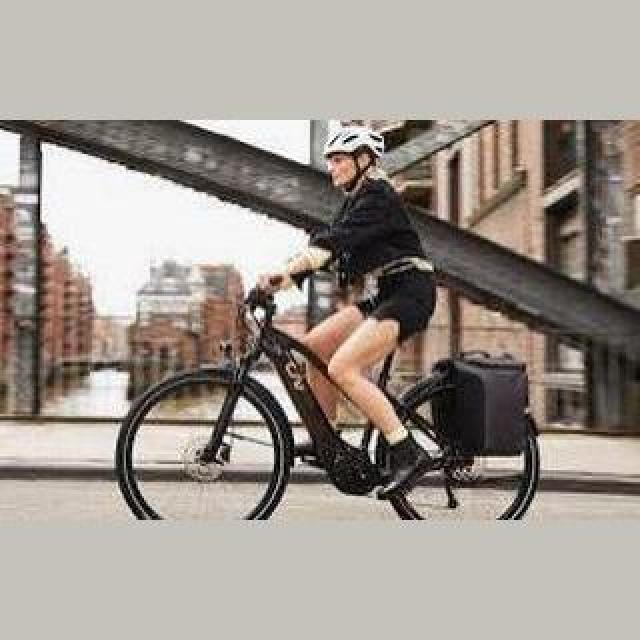MC-Bike: (250, 124, 438, 504)
Person: (117, 264, 543, 520)
